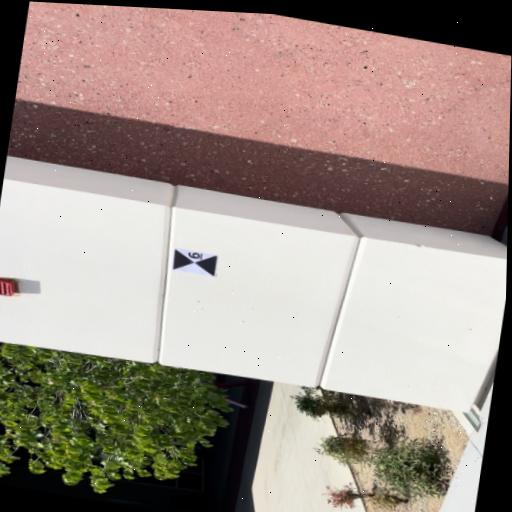target6: (172, 248, 219, 278)
